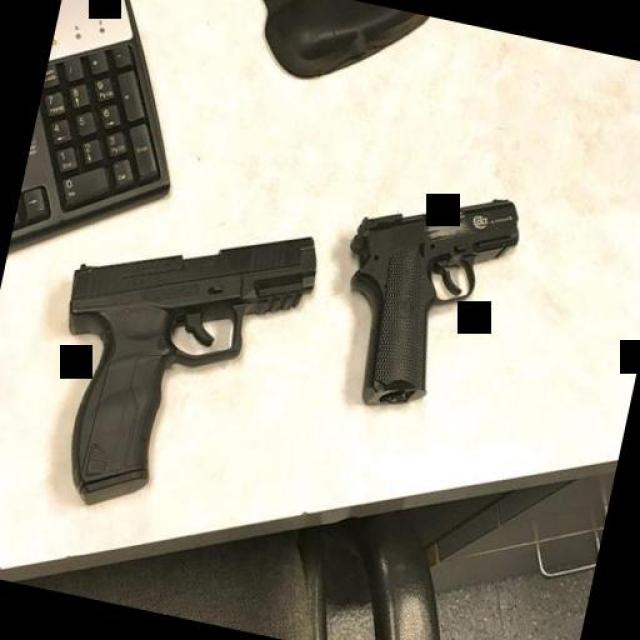gun: (25, 184, 326, 530), (315, 164, 530, 430)
